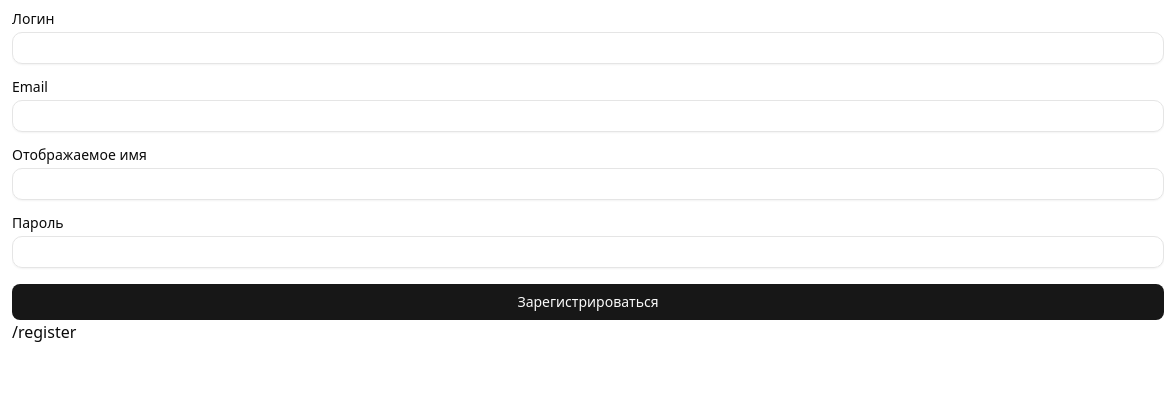
Test: RegisterForm › показывает общую ошибку, если errors[] от backend пуст
Type "newplayer" into the field labelled "Логин" at {"x": 588, "y": 48}, box [12,32,1164,64]
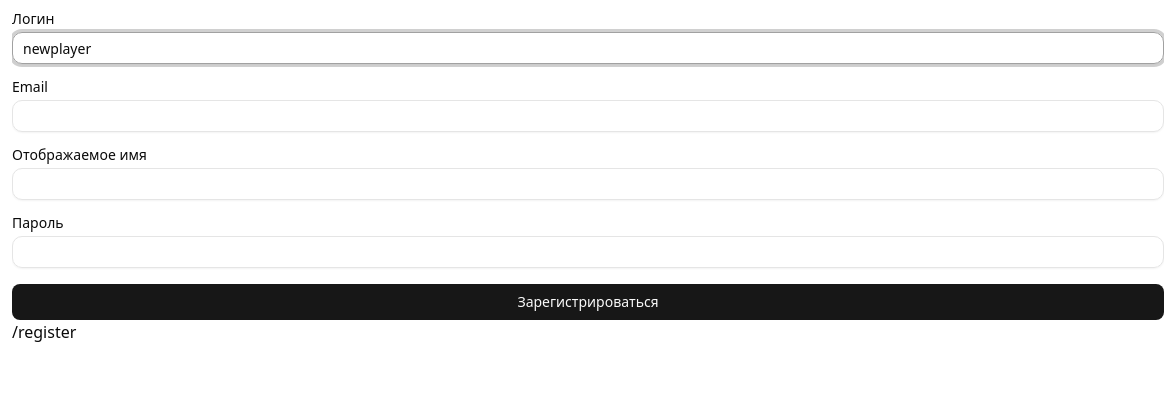
Type "newplayer@example.com" into the field labelled "Email" at {"x": 588, "y": 116}, box [12,100,1164,132]
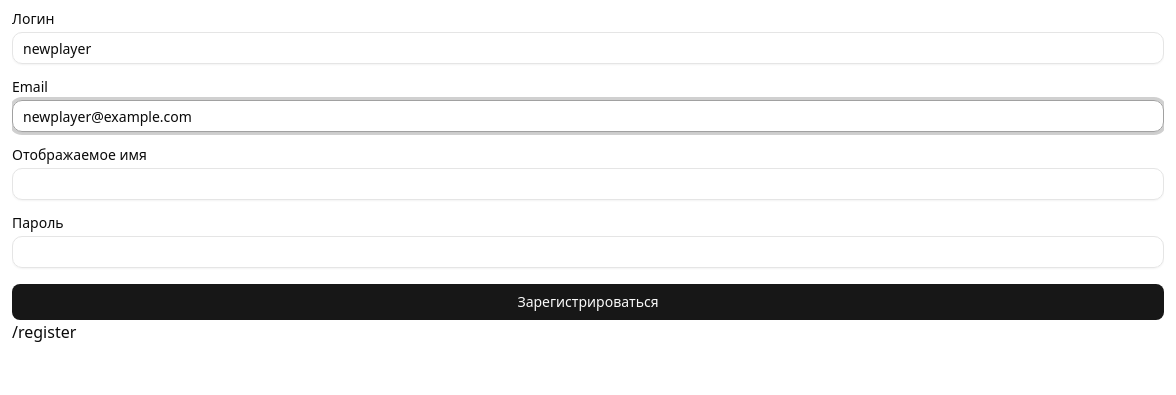
Type "New Player" into the field labelled "Отображаемое имя" at {"x": 588, "y": 184}, box [12,168,1164,200]
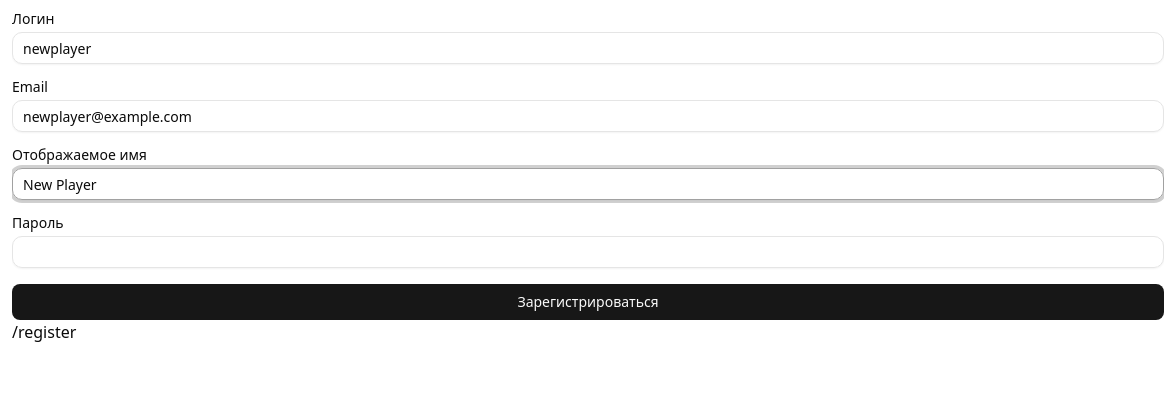
Type "validpass" into the password field labelled "Пароль" at {"x": 588, "y": 252}, box [12,236,1164,268]
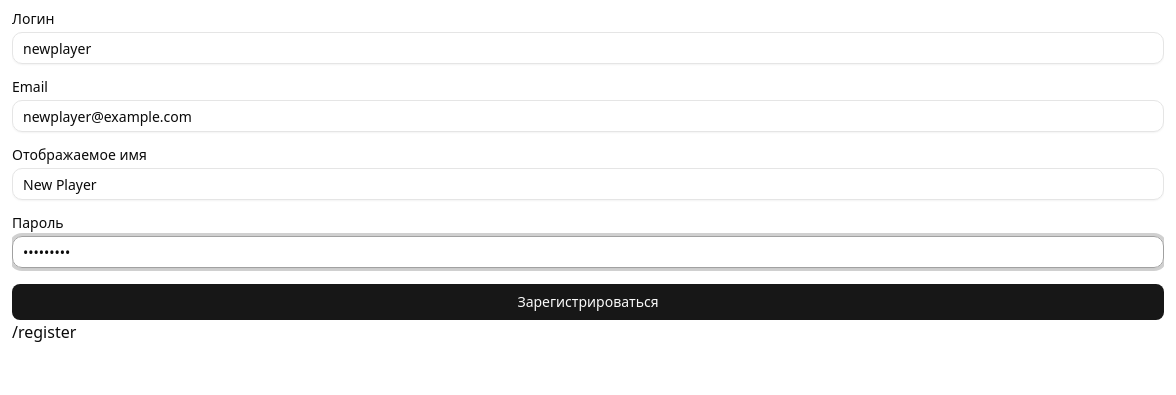
Click the button "Зарегистрироваться" at {"x": 588, "y": 302}, box [12,284,1164,320]
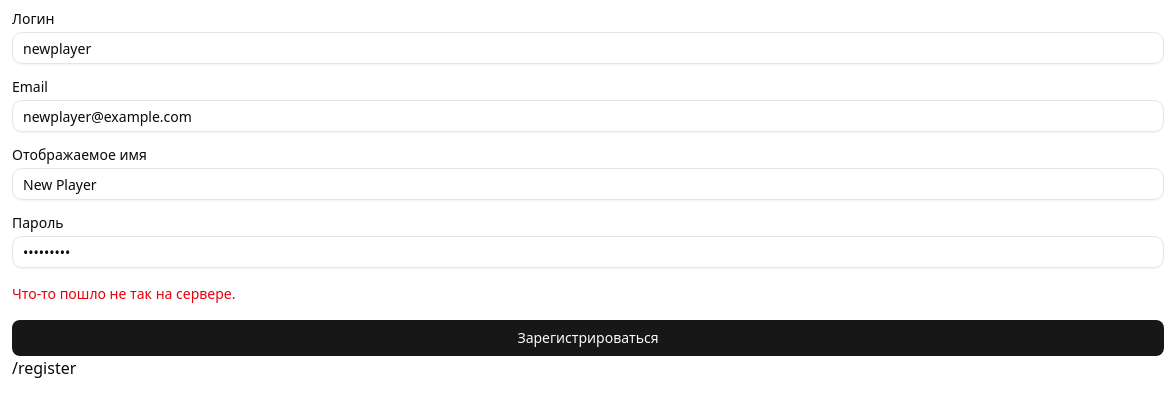
Now the text "Что-то пошло не так на сервере." is shown, box [12,284,236,303]
